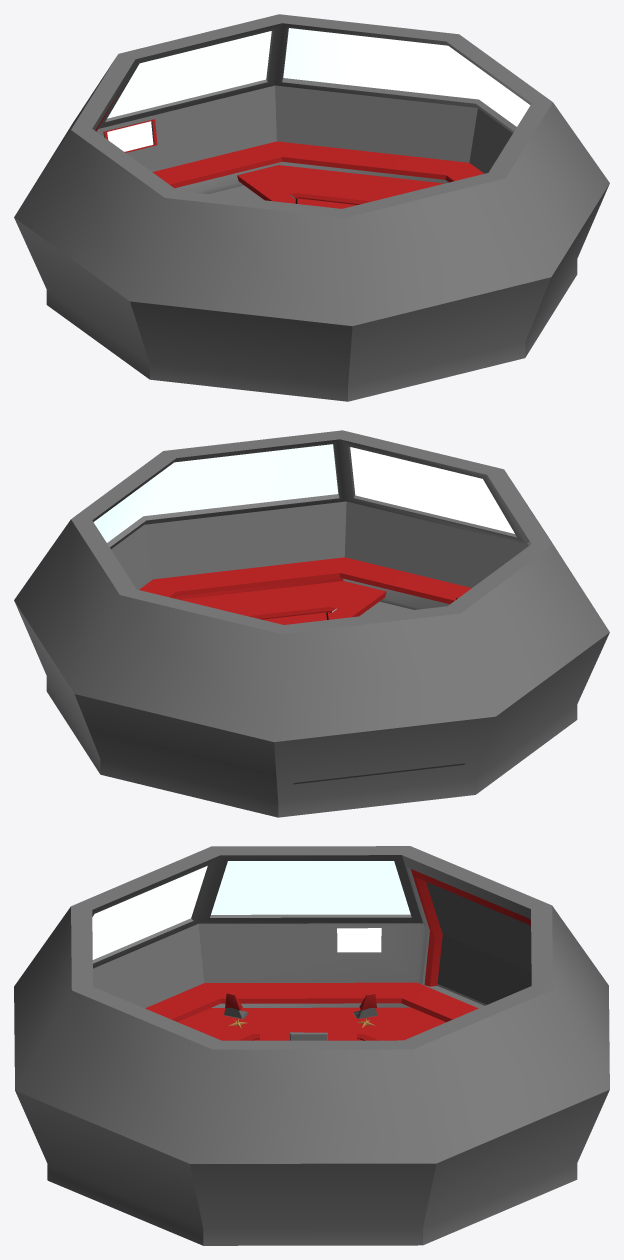
File: 시포디 수정 .fbx
The picture shows the model from 3 angles, top to bottom: view 1: azimuth 30°, elevation 25°; view 2: azimuth 150°, elevation 25°; view 3: azimuth 270°, elevation 25°; orthographic projection. The views are drawn at different scales.
Parts seen in each view (by area): view 1: Cylinder, Tube; view 2: Cylinder, Tube; view 3: Cylinder, Tube.
Part boxes in pixels (x1,y1,x2,y2): Cylinder: (14,14,609,401); Tube: (237,165,444,208); Cylinder: (14,430,609,817); Tube: (180,581,386,624); Cylinder: (14,846,609,1245); Tube: (178,1007,445,1040).
Size of the model in its own units: 1239 by 426 by 1239.
